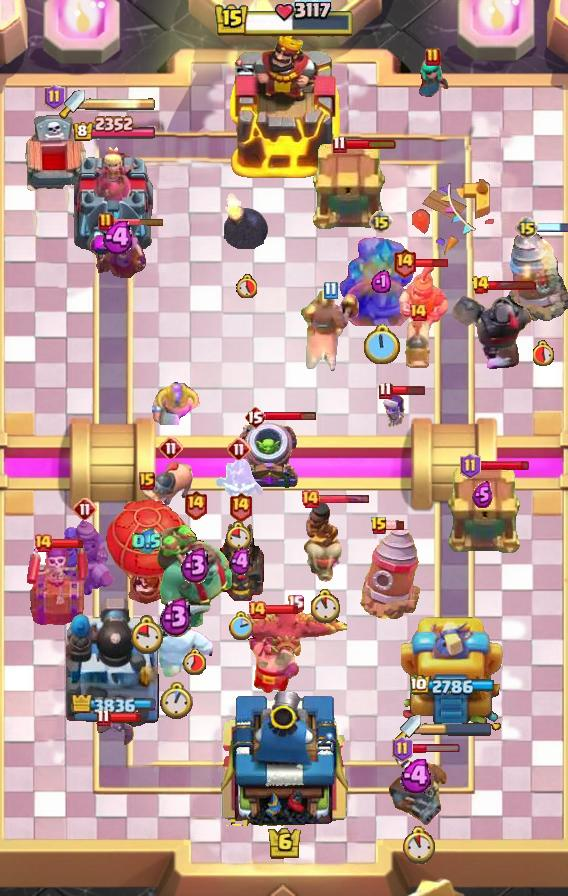archer-evolution: (213, 520, 267, 602)
baby-dragon: (223, 191, 269, 250)
bar: (401, 611, 505, 731), (70, 142, 158, 256)
barbarian-barrel: (96, 717, 136, 747)
bomb: (312, 143, 390, 231), (443, 467, 521, 555)
cannon-cart: (102, 495, 192, 605)
cannoneer-tower: (336, 236, 426, 326)
clock: (213, 0, 355, 40)
earthquake: (398, 267, 448, 331)
electro-spirit: (159, 595, 193, 637), (400, 759, 436, 793), (180, 546, 211, 584), (103, 222, 138, 254), (132, 529, 162, 556), (229, 547, 250, 576), (472, 480, 493, 507), (371, 269, 391, 293)
elite-barbarian: (303, 502, 347, 584)
elixir: (362, 325, 400, 368), (399, 826, 436, 865), (159, 682, 193, 720), (131, 614, 164, 653), (308, 588, 342, 623), (226, 521, 252, 551), (227, 612, 252, 641), (182, 648, 208, 675), (533, 340, 555, 366), (236, 274, 257, 298)
elixir-golem-mid: (19, 114, 89, 200)
emote: (478, 459, 530, 472), (343, 138, 396, 150), (263, 411, 316, 422), (318, 495, 370, 506), (411, 742, 462, 753), (487, 280, 537, 291), (111, 217, 165, 227), (390, 384, 426, 396), (414, 257, 449, 269), (50, 539, 84, 550), (265, 605, 299, 616), (108, 712, 142, 723), (537, 222, 567, 234), (386, 521, 406, 532)
executioner: (143, 458, 199, 506), (402, 318, 434, 372)
freeze: (301, 289, 359, 371)
goblin: (380, 393, 406, 429)
goblin-cage: (236, 421, 300, 491)
goblin-giant: (151, 383, 201, 426)
king-tower: (214, 684, 354, 826), (226, 33, 342, 181)
king-tower-bar: (421, 722, 493, 736), (85, 97, 155, 111)
lava-hound: (155, 518, 235, 630)
magic-archer: (360, 526, 420, 620), (508, 230, 568, 322)
monk: (246, 607, 302, 695)
mother-witch: (239, 602, 351, 672)
phoenix-small: (387, 753, 449, 825)
rage: (135, 611, 217, 677)
ram-rider: (54, 519, 116, 597)
rascal-girl: (89, 226, 149, 282)
royal-guardian: (449, 289, 541, 371)
selected: (71, 116, 156, 143), (411, 675, 498, 697), (71, 694, 157, 713)
skeleton-king-bar: (27, 539, 89, 625)
spear-goblin: (213, 459, 265, 503)
text: (392, 247, 417, 278), (227, 490, 252, 521), (183, 489, 208, 519), (369, 210, 393, 234), (515, 216, 539, 240), (159, 436, 183, 460), (227, 437, 251, 461), (73, 497, 97, 521), (43, 84, 64, 110), (460, 453, 481, 479), (392, 736, 413, 762), (244, 405, 266, 429), (408, 302, 428, 322), (300, 489, 320, 509), (33, 533, 53, 553), (247, 600, 267, 620), (470, 275, 489, 295), (370, 516, 388, 536), (425, 47, 441, 67), (98, 212, 114, 232), (288, 595, 305, 613), (139, 472, 155, 490), (333, 134, 348, 153), (97, 708, 112, 727), (378, 381, 393, 399), (323, 281, 337, 300)
tower-bar: (66, 595, 162, 731)
witch: (415, 58, 451, 102)
